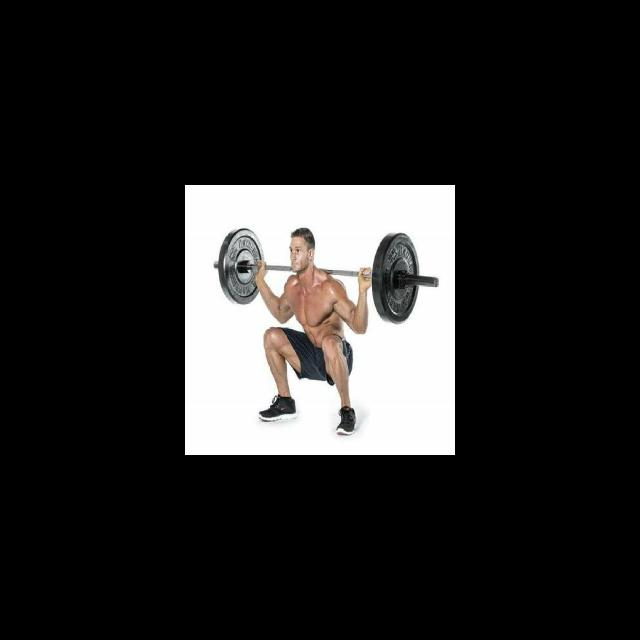barbell: (377, 232, 440, 326)
